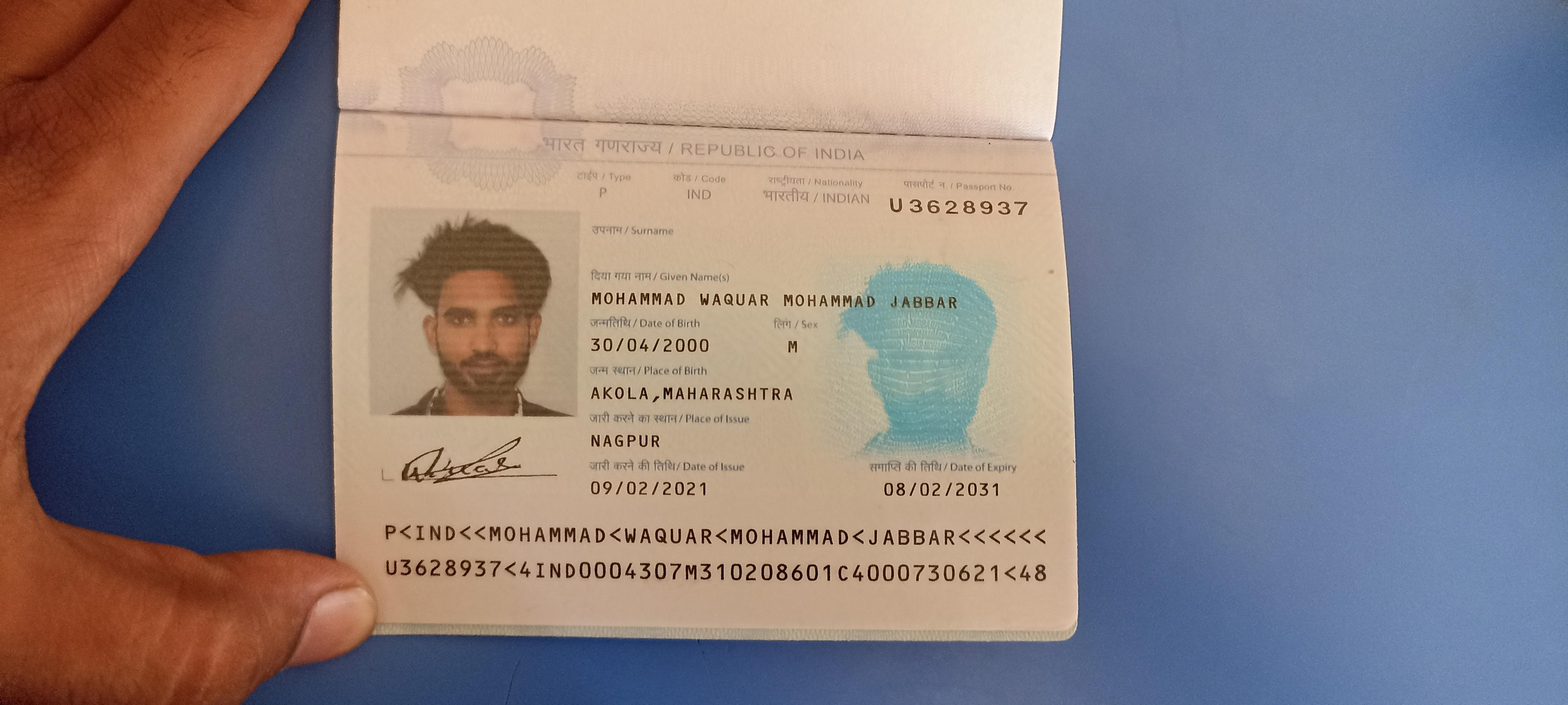DOB: (587, 332, 711, 360)
country_code: (675, 186, 721, 207)
date_of_expiry: (876, 480, 1005, 503)
date_of_issue: (587, 475, 714, 501)
details: (367, 515, 1051, 599)
name: (585, 286, 973, 317)
nationality: (754, 184, 874, 215)
passport_no: (883, 192, 1051, 225)
photo: (366, 203, 580, 403)
place_of_birth: (582, 375, 800, 407)
place_of_issue: (581, 425, 670, 453)
sex: (776, 334, 812, 366)
sign: (388, 443, 551, 487)
type: (587, 180, 620, 205)
